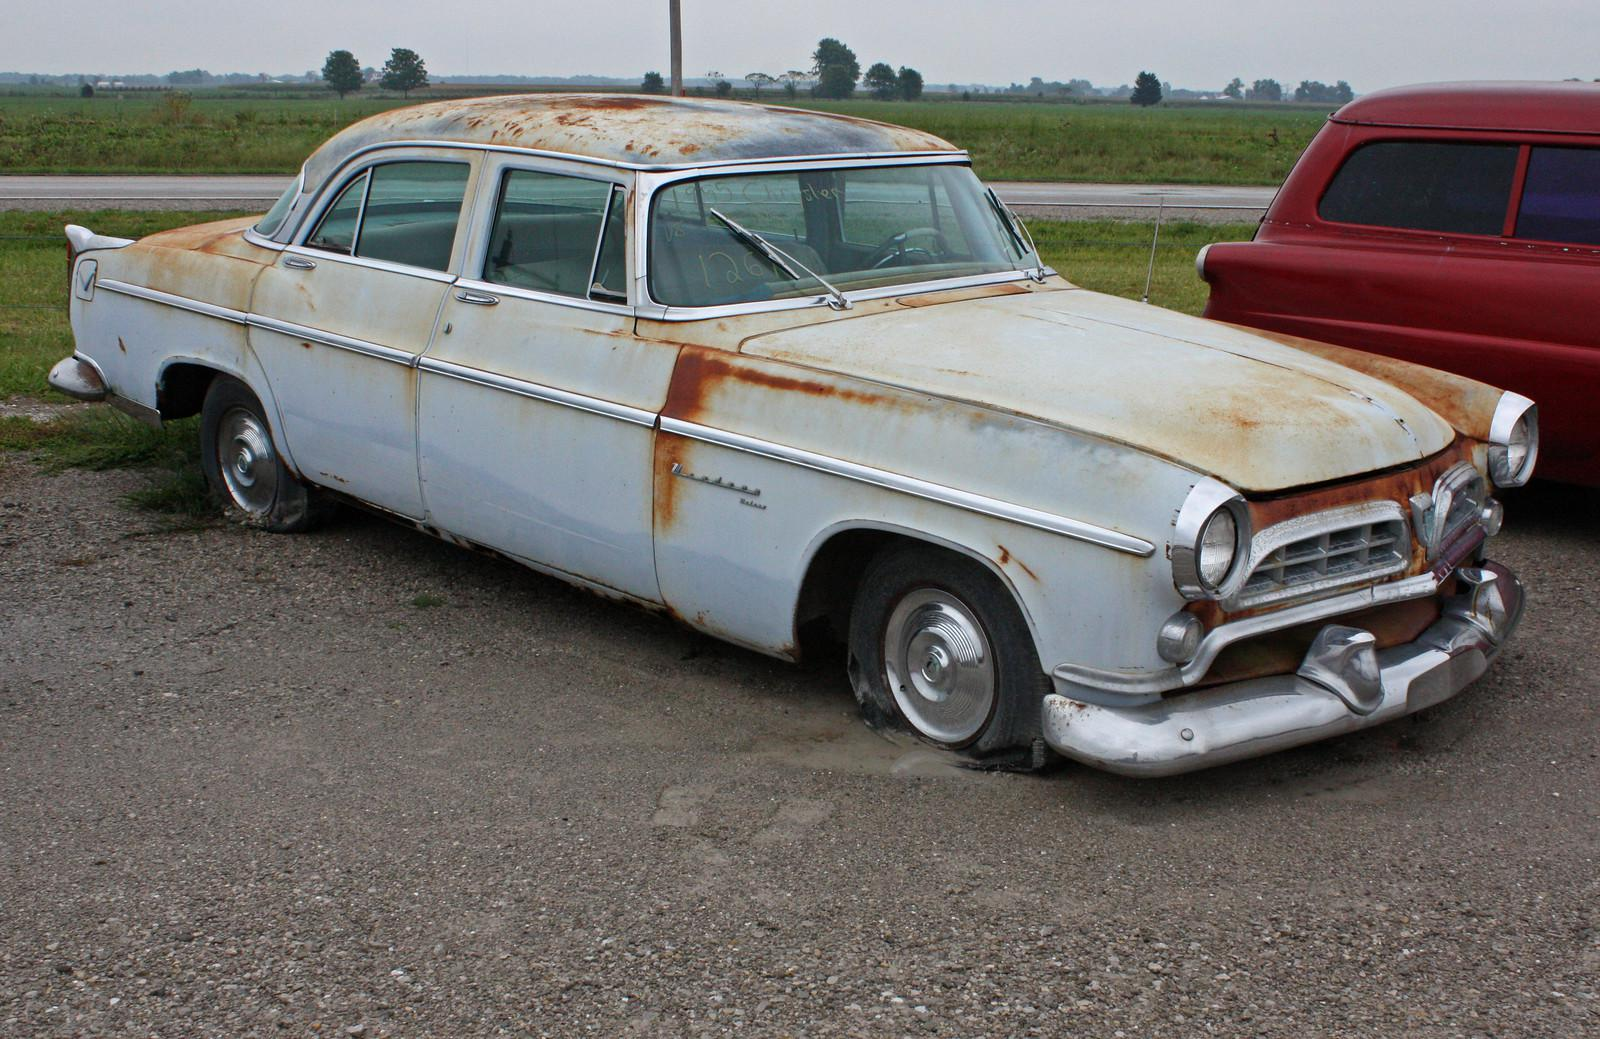bonnet-dent: (692, 306, 1437, 490)
roof-dent: (381, 73, 915, 180)
